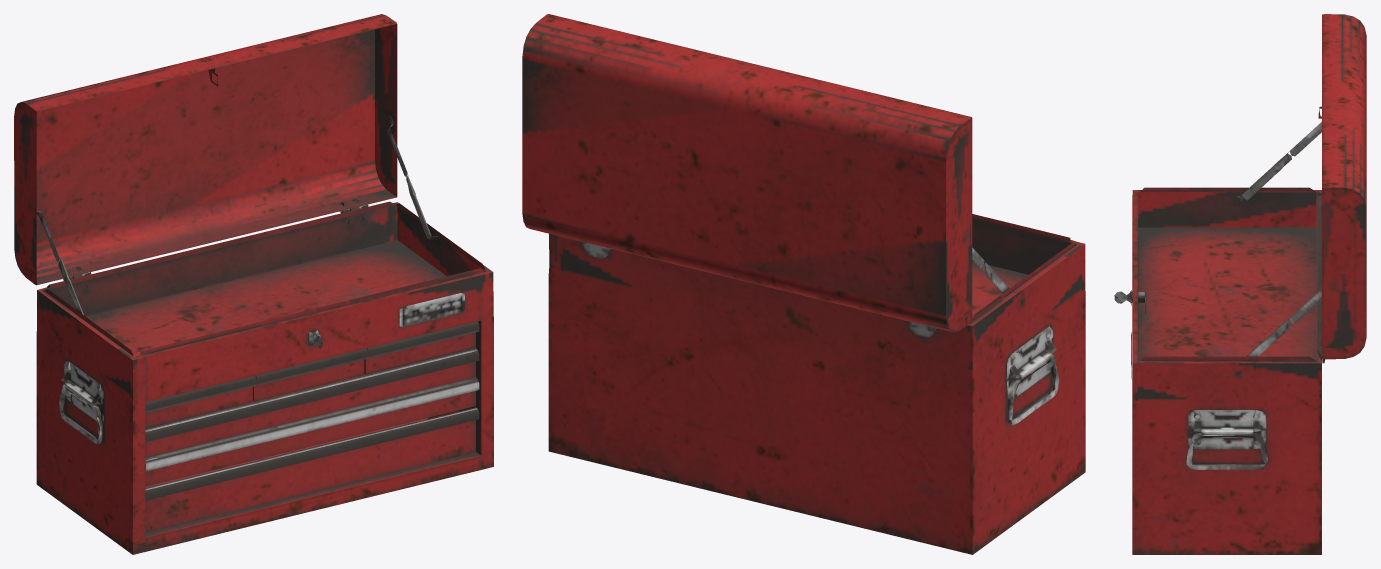
File: chest_re.glb
3 views of the same model, side by side, from view 1: azimuth 30°, elevation 25°; view 2: azimuth 150°, elevation 25°; view 3: azimuth 270°, elevation 25° (orthographic). The views are drawn at different scales.
Visible parts, largest first — view 1: mesh; view 2: mesh; view 3: mesh.
Part boxes in pixels (x1,y1,x2,y2): mesh: (14,14,493,554); mesh: (522,14,1085,554); mesh: (1114,14,1366,554).
Size of the model in its own units: 1.05 by 1 by 0.6216.
1 material, 1 textured.
